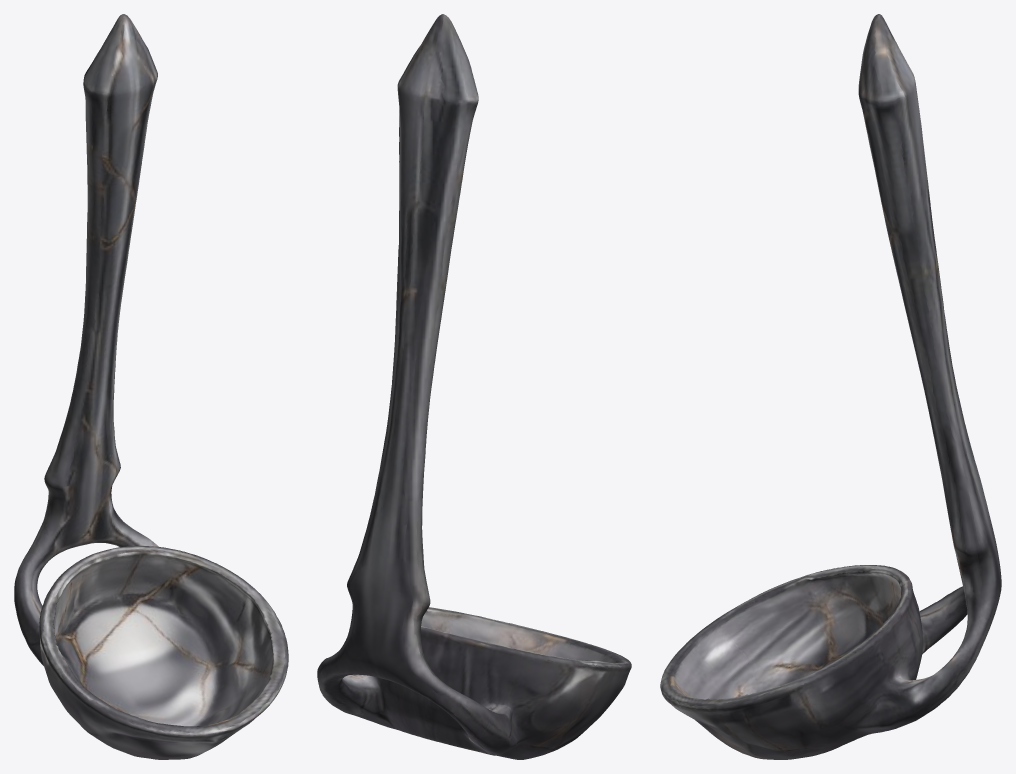
Rendered from agatha_annihilation.glb.
3 views of the same model, side by side, from view 1: azimuth 30°, elevation 25°; view 2: azimuth 150°, elevation 25°; view 3: azimuth 270°, elevation 25° (orthographic). The views are drawn at different scales.
Bounding box in the file's own units: 0.3035 × 0.9271 × 0.3893.
1 material, 1 textured.
